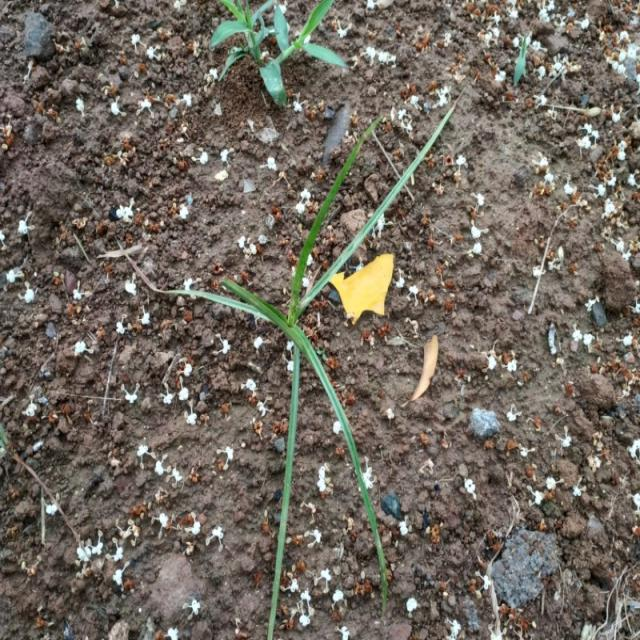sedge: (162, 136, 478, 593)
